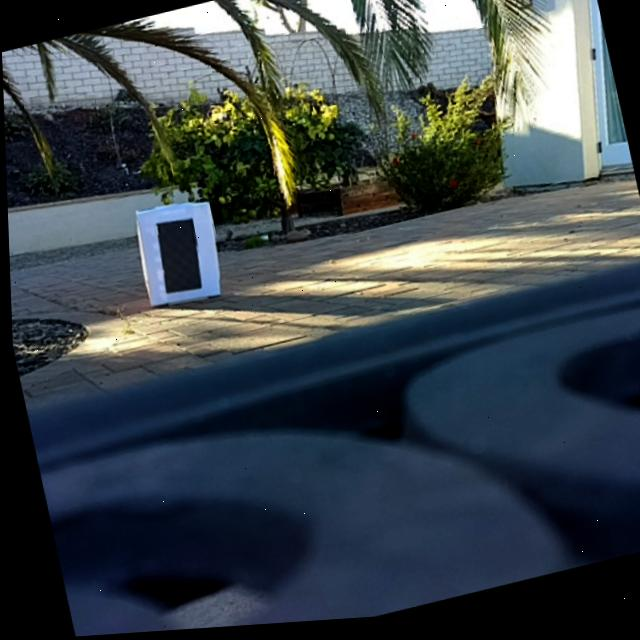led: (150, 218, 203, 299)
